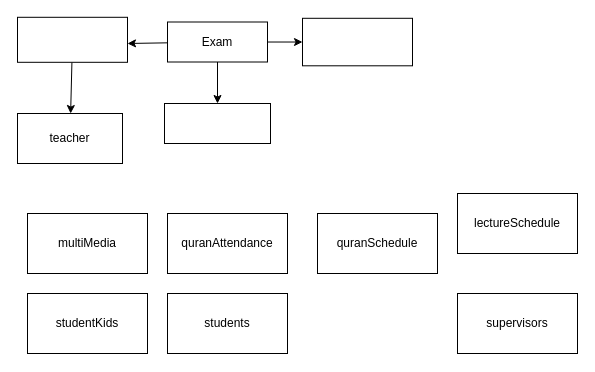
Some shapes in this 595 by 372 pixel diagram are drawn without their labels. Each missing label, with the centre of its shape:
"Class" goes at point 357,41.
"grade" goes at point 217,123.
"Subject" goes at point 72,39.
